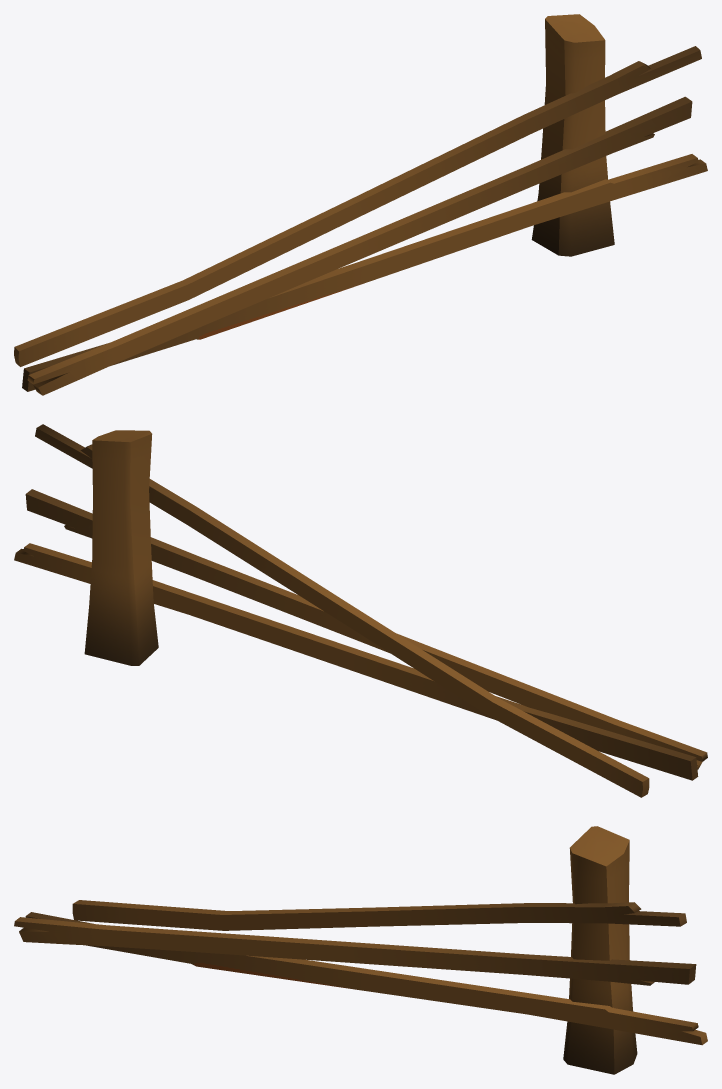
Rendered from RoadFenceWood_Damaged-02.FBX.
The picture shows the model from 3 angles, top to bottom: view 1: azimuth 30°, elevation 25°; view 2: azimuth 150°, elevation 25°; view 3: azimuth 330°, elevation 25°; orthographic projection.
Visible parts, largest first — view 1: RoadFenceWood_Damaged-02; view 2: RoadFenceWood_Damaged-02; view 3: RoadFenceWood_Damaged-02.
Part boxes in pixels (x1=…): RoadFenceWood_Damaged-02: x1=14, y1=14, x2=707, y2=395; RoadFenceWood_Damaged-02: x1=14, y1=424, x2=707, y2=797; RoadFenceWood_Damaged-02: x1=14, y1=826, x2=707, y2=1074.
Size of the model in its own units: 460 by 144 by 49.67.
Materials: 1 (1 with a texture image).
